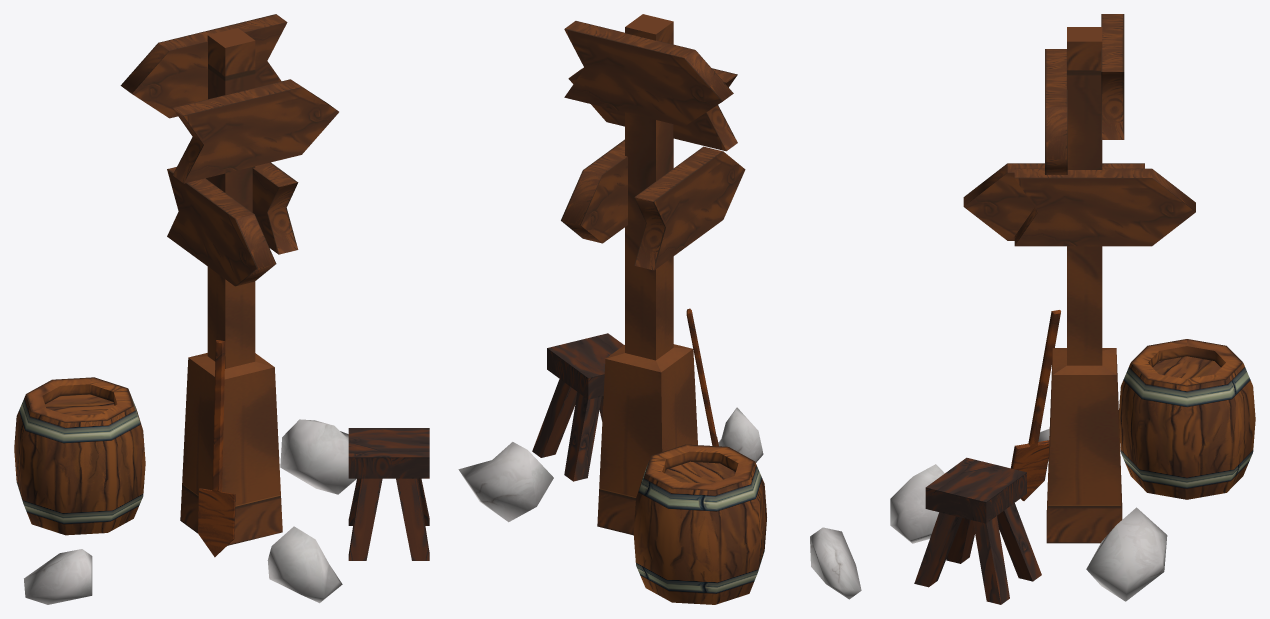
File: Center.FBX
The picture shows the model from 3 angles, left to right: view 1: azimuth 30°, elevation 25°; view 2: azimuth 150°, elevation 25°; view 3: azimuth 270°, elevation 25°; orthographic projection.
Visible parts, largest first — view 1: Pillar_005, Barrel_01, Box067, Stoel002, Box066, Box065, Box003, Line001, Box002, Box068, Box001; view 2: Pillar_005, Barrel_01, Box065, Box066, Stoel002, Box068, Box003, Box001, Box067, Box002, Line001; view 3: Pillar_005, Barrel_01, Box068, Stoel002, Box003, Box066, Box065, Box067, Line001, Box002.
Boxes of the visible parts, x1=… form: Pillar_005: x1=180, y1=28, x2=282, y2=545; Barrel_01: x1=14, y1=377, x2=145, y2=535; Box067: x1=172, y1=79, x2=338, y2=183; Stoel002: x1=348, y1=428, x2=429, y2=560; Box066: x1=167, y1=167, x2=276, y2=286; Box065: x1=120, y1=14, x2=287, y2=118; Box003: x1=280, y1=419, x2=356, y2=494; Line001: x1=198, y1=340, x2=235, y2=557; Box002: x1=267, y1=526, x2=342, y2=603; Box068: x1=206, y1=162, x2=298, y2=254; Box001: x1=24, y1=549, x2=92, y2=604; Pillar_005: x1=597, y1=14, x2=697, y2=535; Barrel_01: x1=633, y1=444, x2=766, y2=604; Box065: x1=564, y1=21, x2=733, y2=126; Box066: x1=634, y1=146, x2=745, y2=270; Stoel002: x1=532, y1=333, x2=623, y2=481; Box068: x1=561, y1=139, x2=627, y2=243; Box003: x1=458, y1=442, x2=553, y2=522; Box001: x1=810, y1=527, x2=861, y2=599; Box067: x1=568, y1=67, x2=737, y2=151; Box002: x1=718, y1=407, x2=763, y2=462; Line001: x1=686, y1=308, x2=718, y2=446; Pillar_005: x1=1046, y1=27, x2=1122, y2=543; Barrel_01: x1=1119, y1=339, x2=1255, y2=499; Box068: x1=1014, y1=168, x2=1195, y2=246; Stoel002: x1=914, y1=457, x2=1041, y2=604; Box003: x1=1086, y1=507, x2=1167, y2=601; Box066: x1=963, y1=163, x2=1144, y2=240; Box065: x1=1101, y1=14, x2=1124, y2=139; Box067: x1=1045, y1=49, x2=1067, y2=174; Line001: x1=1011, y1=310, x2=1060, y2=500; Box002: x1=890, y1=464, x2=944, y2=543.
Bounding box in the file's own units: 3.48 × 4.57 × 2.92.
Materials: 6 (6 with a texture image).
